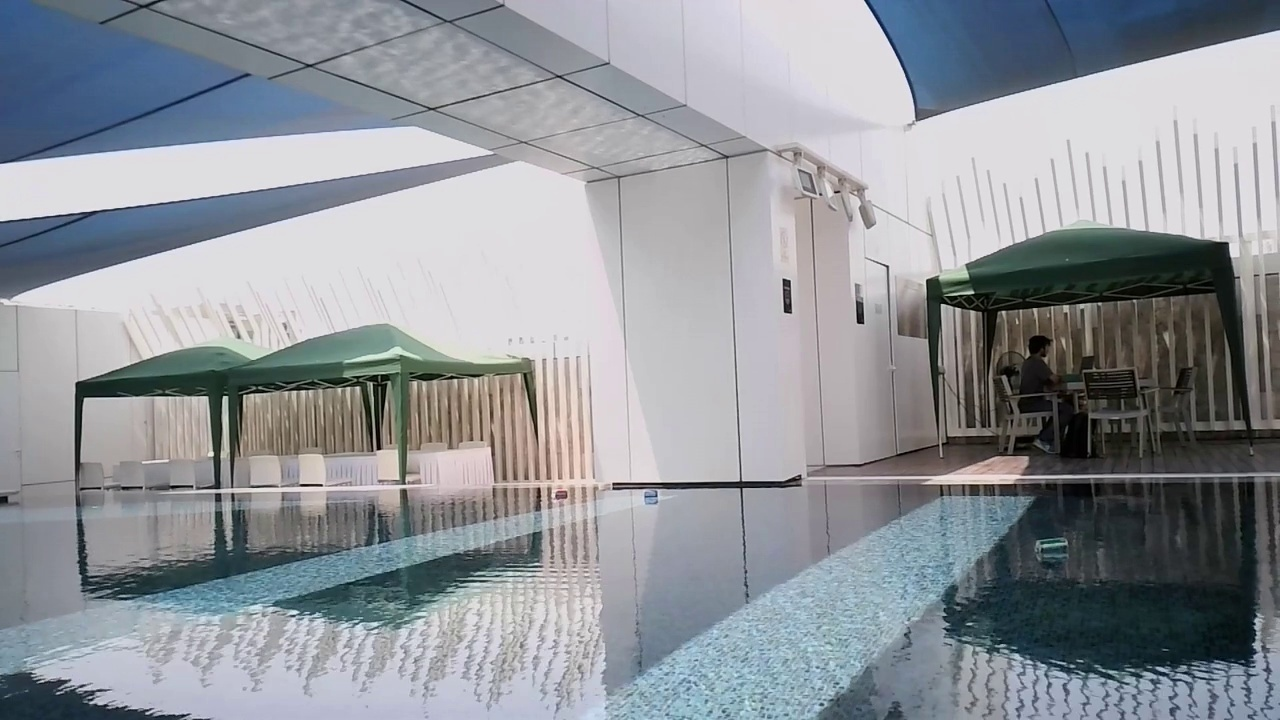debris: (1028, 533, 1075, 566), (548, 487, 568, 504), (642, 488, 658, 504)
